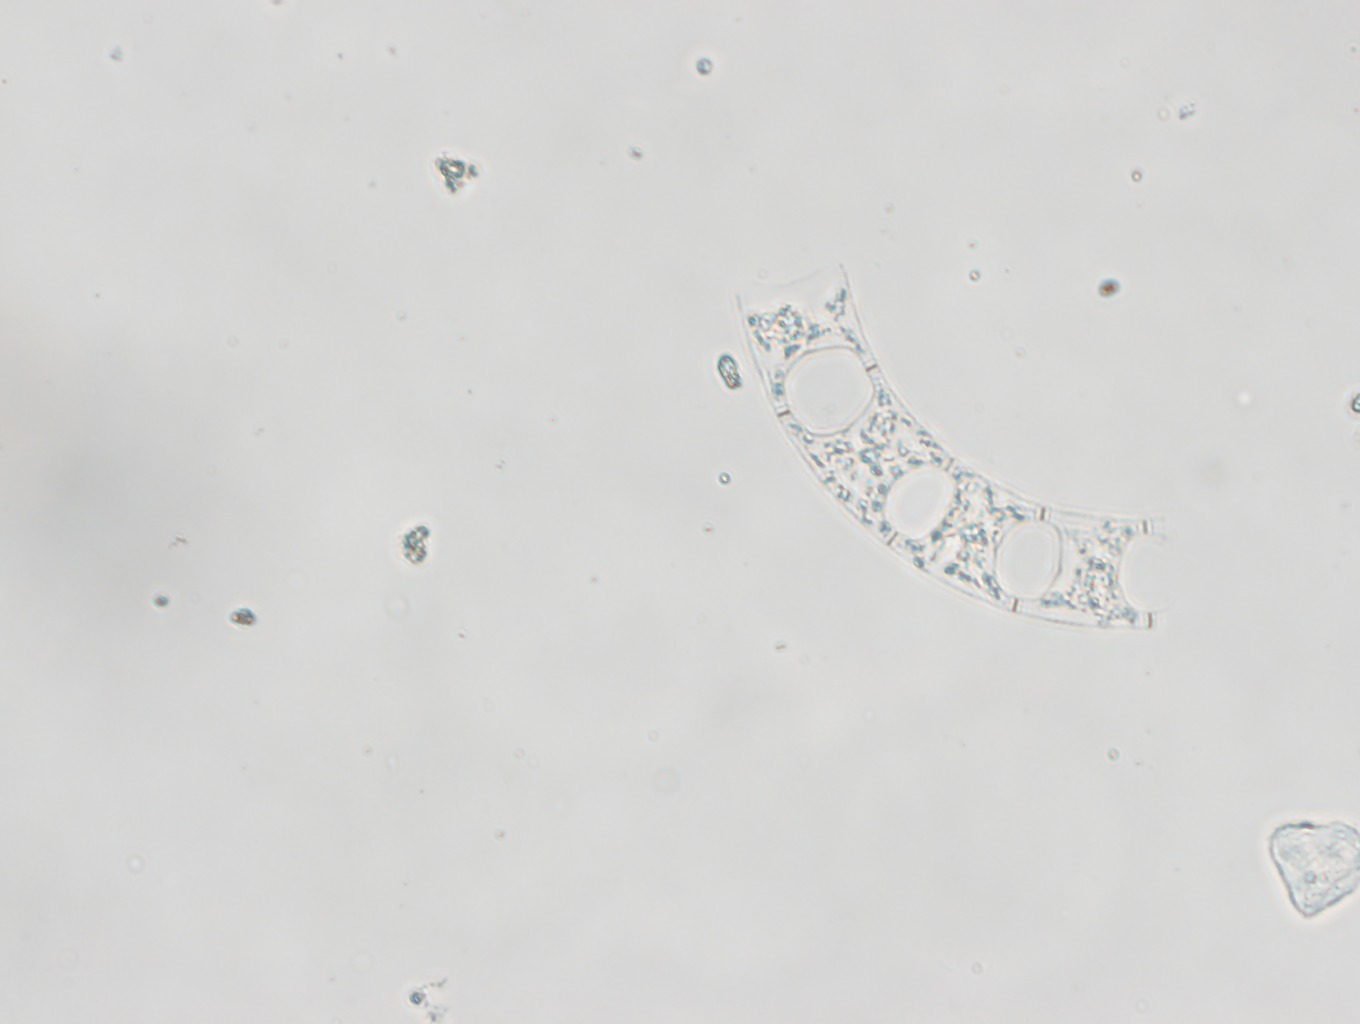eucampia: (714, 261, 1168, 663)
